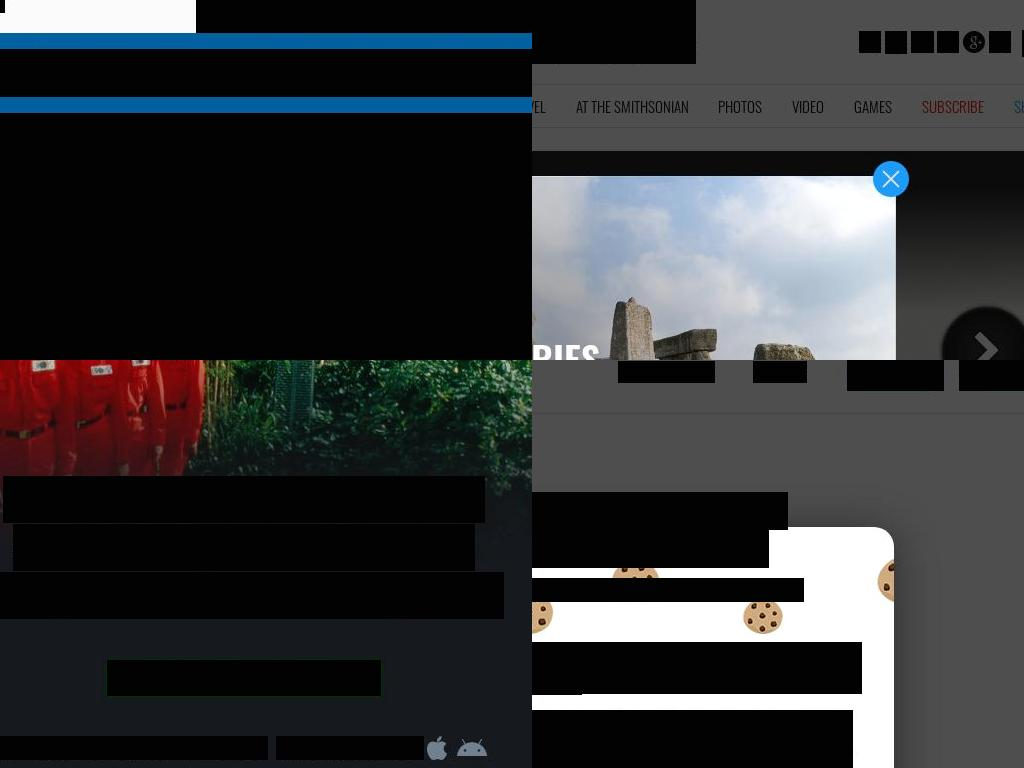button: (532, 151, 1024, 360), (0, 49, 532, 97), (606, 642, 827, 695), (532, 0, 696, 64), (107, 660, 381, 696), (310, 0, 466, 33), (575, 85, 689, 127), (942, 307, 1024, 360), (196, 0, 310, 33), (847, 360, 944, 391), (532, 642, 582, 695), (922, 87, 985, 125), (466, 0, 532, 33), (959, 360, 1024, 391), (718, 85, 763, 127), (854, 85, 893, 127), (427, 736, 488, 762), (792, 85, 825, 127), (873, 160, 909, 197), (532, 85, 546, 127), (859, 31, 881, 53), (885, 31, 907, 53), (911, 31, 933, 53), (937, 31, 959, 53), (989, 31, 1011, 53), (1014, 87, 1024, 125)
heading: (532, 169, 1023, 230), (0, 572, 504, 619), (3, 476, 485, 523), (13, 524, 475, 571), (532, 492, 788, 530), (532, 530, 769, 568), (532, 578, 804, 602)
iframe: (0, 113, 532, 360)
image: (532, 151, 1024, 360), (878, 165, 904, 192)
link: (0, 49, 532, 97), (618, 361, 715, 383), (753, 361, 807, 383), (551, 748, 611, 765), (885, 31, 907, 54), (911, 31, 934, 53), (989, 36, 1011, 48), (941, 39, 957, 51), (866, 36, 878, 51)
text: (532, 710, 853, 765), (532, 642, 862, 694), (0, 736, 268, 760), (532, 748, 853, 768), (276, 736, 424, 760), (671, 660, 762, 677), (922, 95, 985, 117), (457, 736, 488, 762), (873, 363, 918, 380), (985, 363, 1024, 380), (427, 736, 448, 762)
